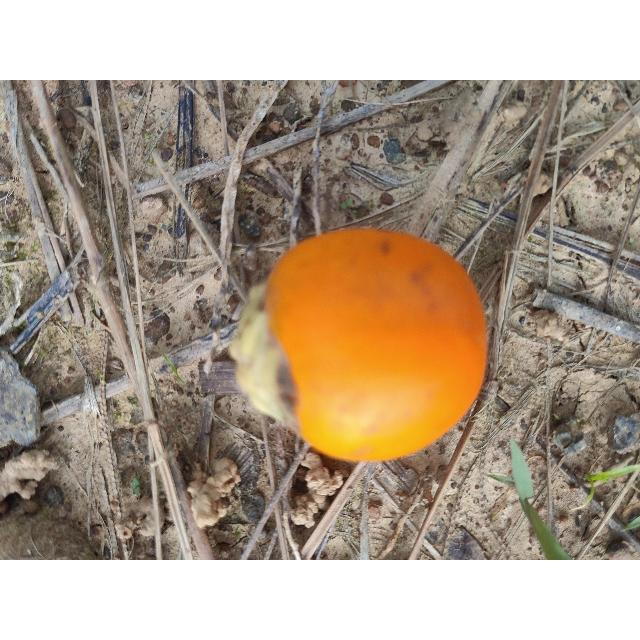good: (229, 227, 489, 464)
